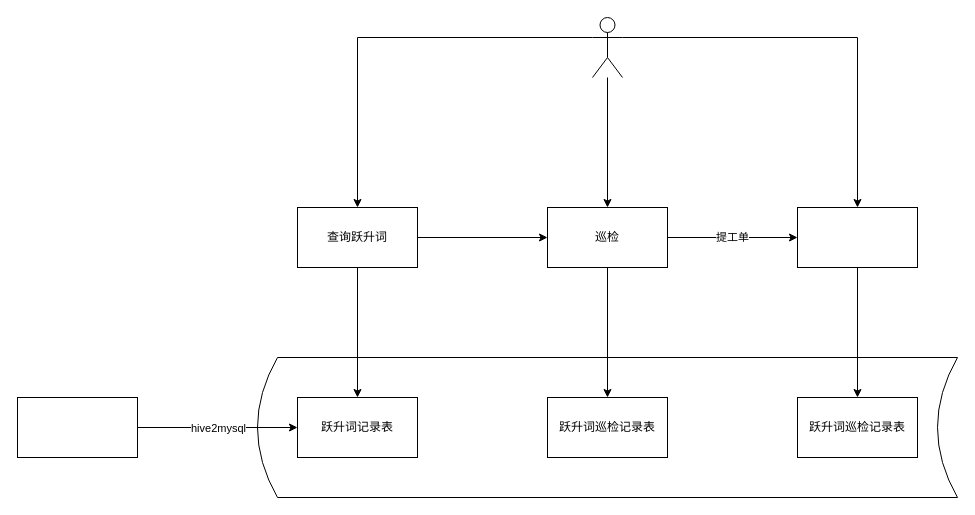
The diagram is 975 pixels wide and 515 high, and some of its shapes have lost their labels. The shapes that lost their labels are listed below. From the top down, each one's centre as x and y in pixels, then its label:
(x=607, y=47): 运营
(x=857, y=237): 创建工单
(x=77, y=427): 跃升词hive表
